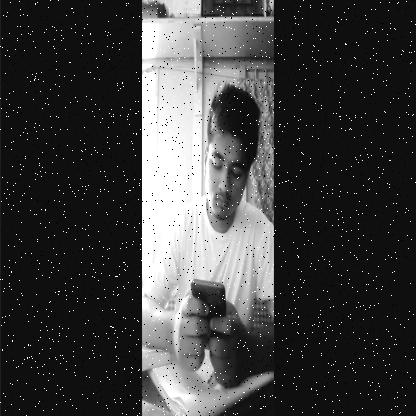Normal: (200, 80, 262, 228)
